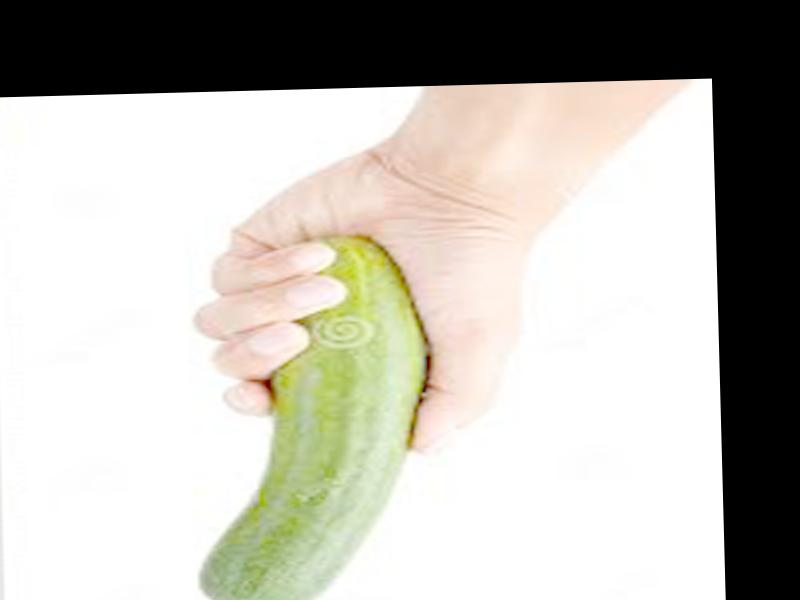Cucumber: (189, 234, 426, 600)
